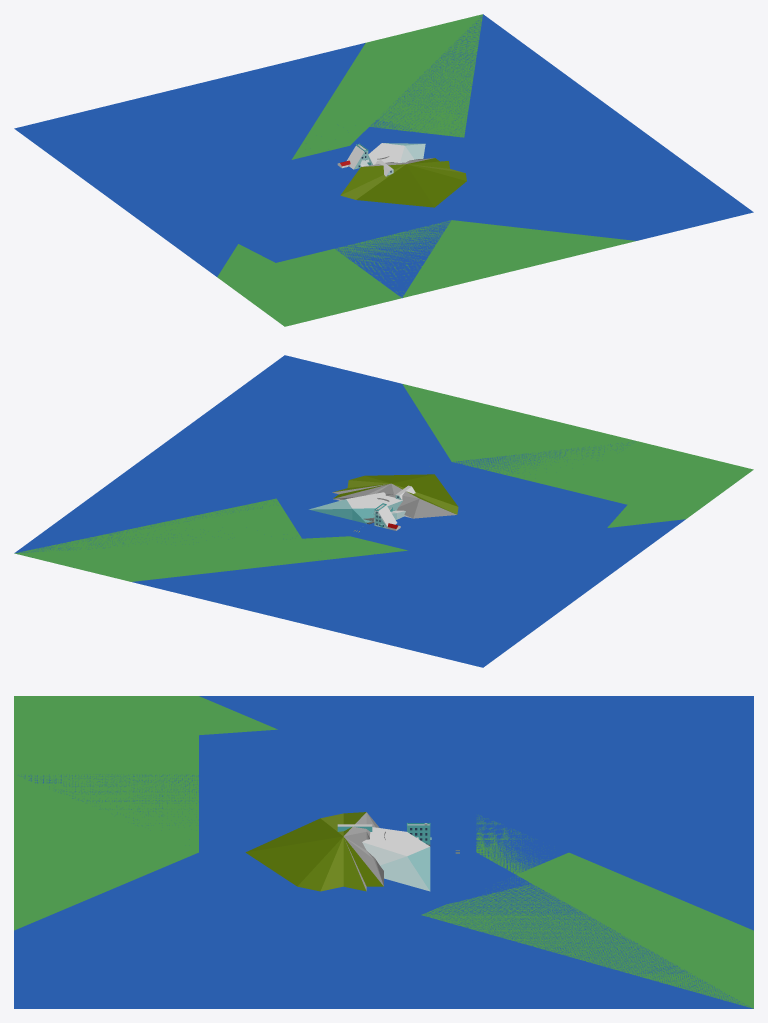
3 views of the same model, one above another, from view 1: azimuth 30°, elevation 25°; view 2: azimuth 150°, elevation 25°; view 3: azimuth 270°, elevation 25° (orthographic). The views are drawn at different scales.
Parts seen in each view (by area): view 1: nc_042_lod0, nc_046_lod0, nc_002_lod0, nc_045_lod0, nc_049_lod0, nc_070_lod0, nc_047_lod0, nc_071_lod0, nc_089_lod0; view 2: nc_046_lod0, nc_042_lod0, nc_002_lod0, nc_045_lod0, nc_049_lod0, nc_070_lod0, nc_047_lod0, nc_089_lod0, nc_071_lod0; view 3: nc_042_lod0, nc_046_lod0, nc_002_lod0, nc_049_lod0, nc_045_lod0, nc_070_lod0, nc_047_lod0, nc_071_lod0, nc_089_lod0, nc_043_lod0_s1v0.
Part boxes in pixels (box(x1,y1,x2,y2)): nc_042_lod0: box(238, 14, 753, 297); nc_046_lod0: box(14, 18, 532, 276); nc_002_lod0: box(217, 15, 635, 326); nc_045_lod0: box(291, 14, 482, 159); nc_049_lod0: box(285, 220, 633, 325); nc_070_lod0: box(340, 158, 466, 207); nc_047_lod0: box(219, 245, 293, 326); nc_071_lod0: box(406, 158, 466, 207); nc_089_lod0: box(368, 143, 425, 165); nc_046_lod0: box(28, 458, 685, 667); nc_042_lod0: box(14, 355, 628, 553); nc_002_lod0: box(15, 384, 753, 553); nc_045_lod0: box(14, 505, 407, 581); nc_049_lod0: box(405, 385, 752, 499); nc_070_lod0: box(332, 474, 458, 518); nc_047_lod0: box(608, 470, 751, 527); nc_089_lod0: box(309, 492, 402, 523); nc_071_lod0: box(333, 474, 433, 498); nc_042_lod0: box(14, 729, 753, 1008); nc_046_lod0: box(199, 696, 753, 1007); nc_002_lod0: box(14, 696, 752, 1008); nc_049_lod0: box(14, 697, 198, 927); nc_045_lod0: box(476, 815, 753, 1008); nc_070_lod0: box(246, 812, 383, 891); nc_047_lod0: box(14, 696, 273, 746); nc_071_lod0: box(245, 836, 383, 886); nc_089_lod0: box(362, 827, 430, 891); nc_043_lod0_s1v0: box(337, 824, 430, 844).
Size of what is drawn, in the model's own units: 4096 by 138 by 4096.
